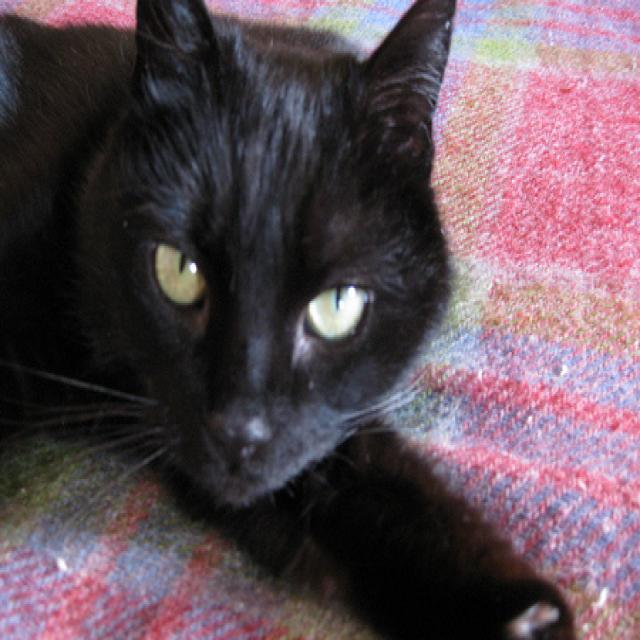Bombay: (0, 0, 612, 640)
